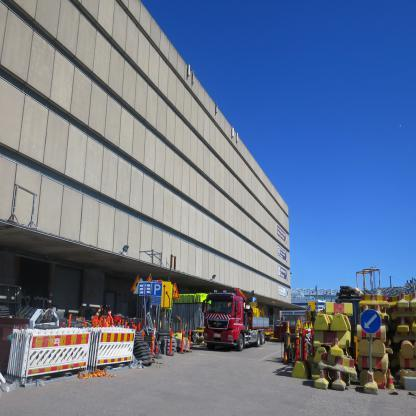truck: (201, 286, 269, 352), (272, 306, 308, 344)
